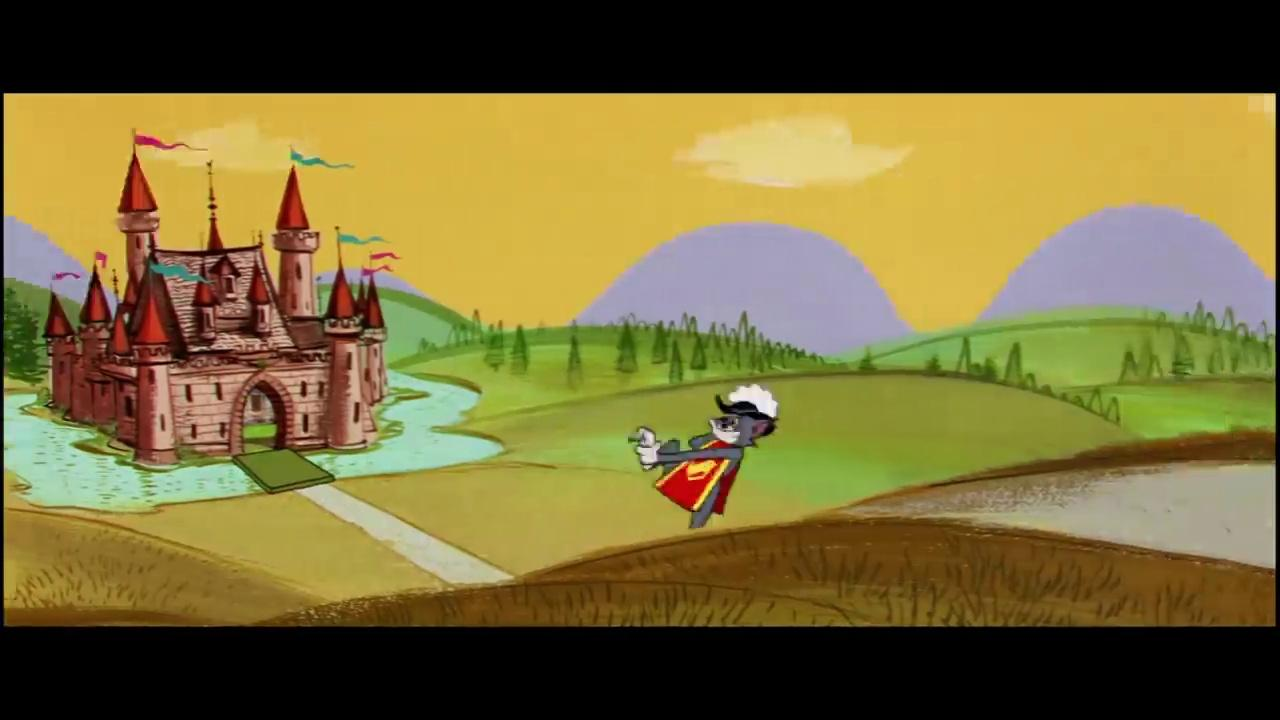Tom: (624, 406, 771, 530)
